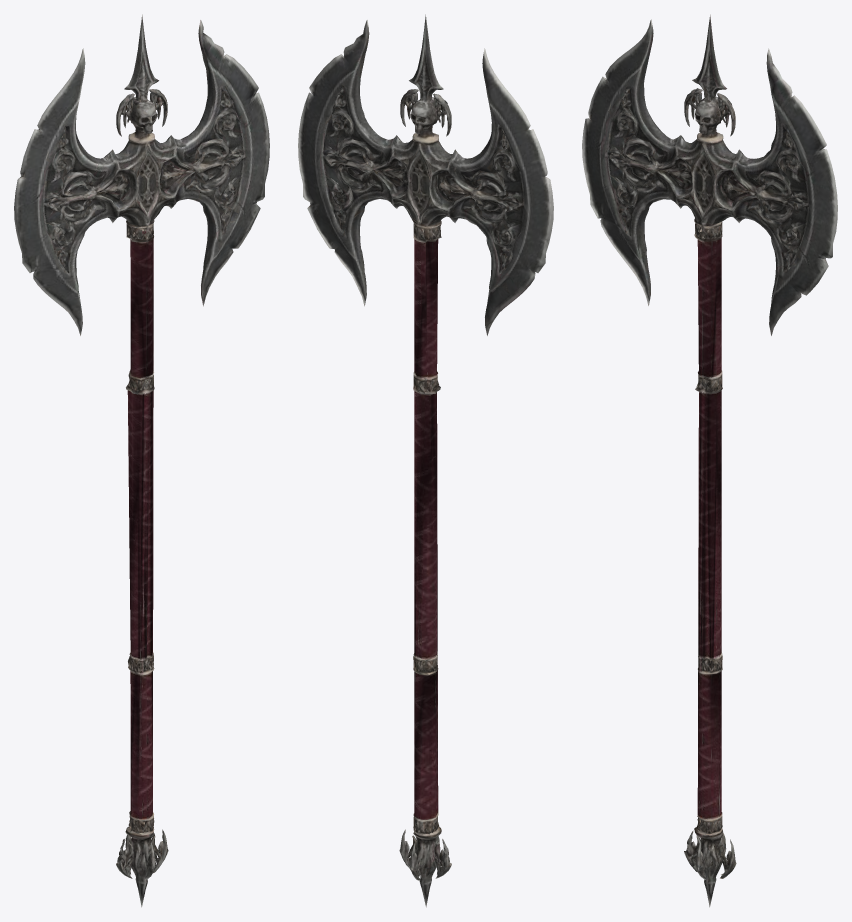
The model's file is axe-gothic.glb.
The picture shows the model from 3 angles, left to right: view 1: azimuth 30°, elevation 25°; view 2: azimuth 150°, elevation 25°; view 3: azimuth 330°, elevation 25°; orthographic projection.
Size of the model in its own units: 0.2847 by 0.9502 by 0.0552.
Materials: 1 (1 with a texture image).
